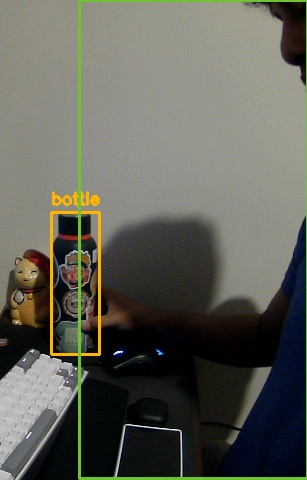bottle: (51, 212, 99, 354)
